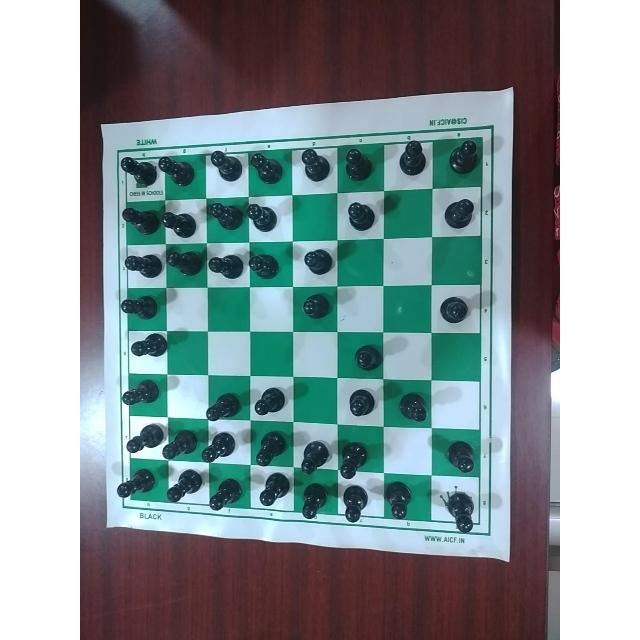black-pawn: (115, 464, 157, 503), (442, 488, 476, 533), (384, 478, 416, 525), (118, 204, 163, 237), (165, 466, 205, 503), (116, 154, 157, 190), (157, 152, 196, 189), (206, 200, 246, 236), (395, 138, 429, 180), (439, 195, 476, 233), (205, 478, 244, 514), (124, 421, 164, 456), (337, 434, 367, 480), (161, 425, 198, 462), (205, 388, 243, 424), (126, 331, 168, 363), (254, 427, 288, 466), (120, 250, 162, 281), (210, 147, 244, 185), (258, 470, 291, 509), (207, 250, 247, 282), (159, 208, 200, 239), (299, 435, 330, 476), (246, 248, 282, 283), (117, 295, 162, 323), (118, 377, 160, 407), (200, 429, 236, 464), (445, 139, 478, 177), (251, 384, 289, 417), (343, 144, 375, 183), (341, 482, 369, 526), (300, 481, 330, 522), (299, 147, 333, 183), (396, 389, 430, 425), (249, 150, 282, 186), (437, 292, 470, 328), (344, 385, 377, 420), (246, 202, 282, 234), (444, 437, 476, 473), (166, 248, 204, 278), (301, 248, 335, 280), (343, 202, 376, 234), (349, 340, 382, 371), (301, 291, 330, 325)
